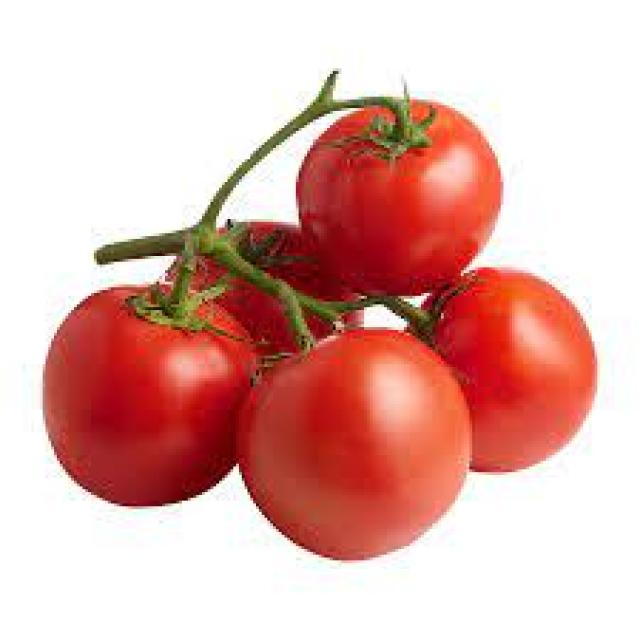tomatoes: (232, 329, 471, 562), (44, 284, 256, 508), (297, 95, 499, 289), (411, 266, 597, 476)
